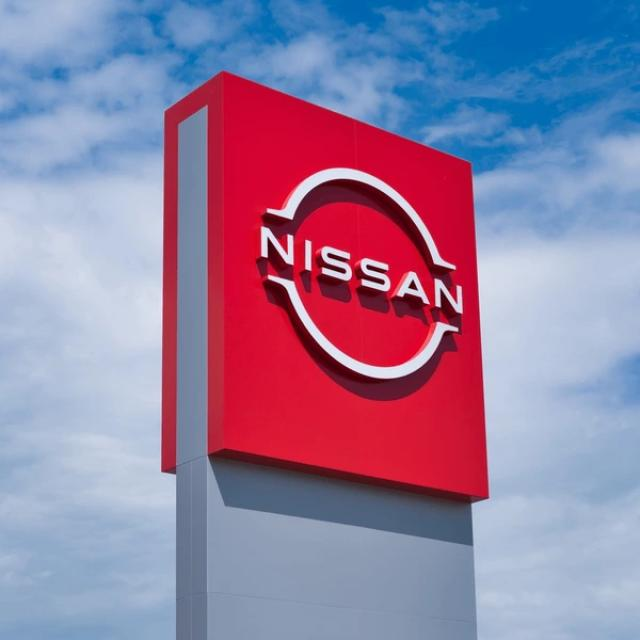nissan: (256, 164, 480, 385)
